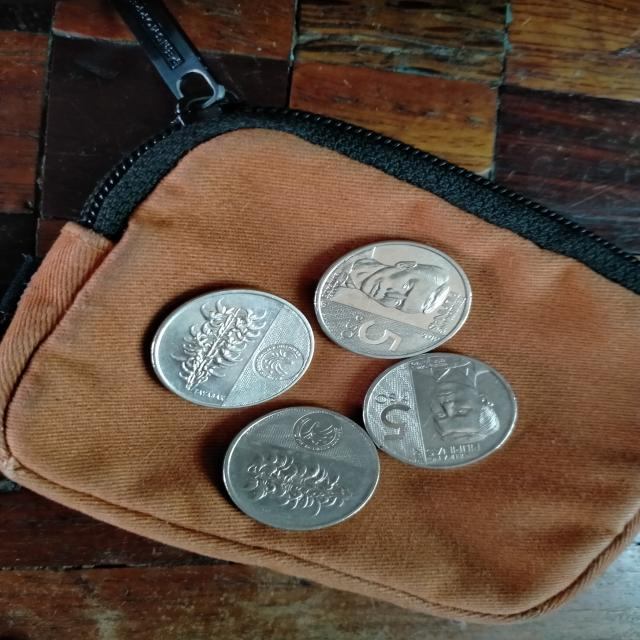5_New_Back: (163, 291, 267, 396), (230, 448, 356, 525)
5_New_Front: (368, 382, 426, 451), (342, 310, 404, 362)
